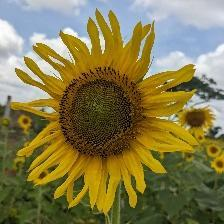sunflower: (11, 8, 202, 215)
